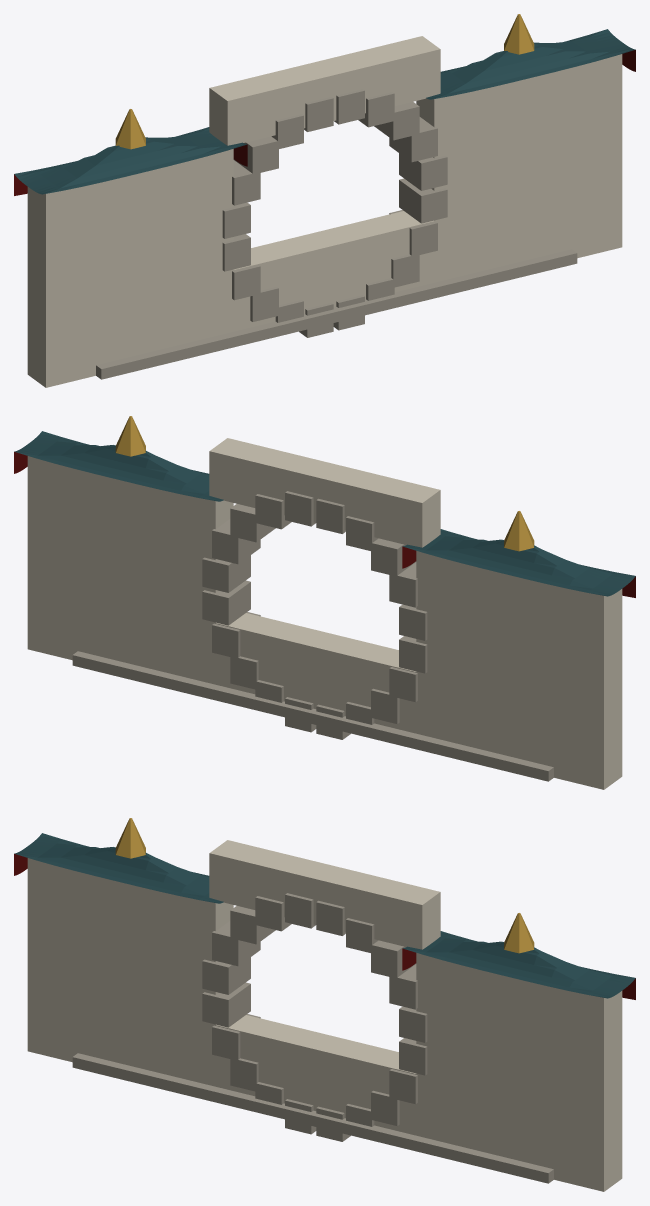
Rendered from moon-gate.glb.
3 views of the same model, one above another, from view 1: azimuth 30°, elevation 25°; view 2: azimuth 150°, elevation 25°; view 3: azimuth 330°, elevation 25° (orthographic).
Parts seen in each view (by area): view 1: moon-gate; view 2: moon-gate; view 3: moon-gate.
Part boxes in pixels (x1=…): moon-gate: x1=14, y1=14, x2=635, y2=387; moon-gate: x1=14, y1=416, x2=635, y2=789; moon-gate: x1=14, y1=818, x2=635, y2=1191.
Bounding box in the file's own units: 9.48 × 3.98 × 0.8.
